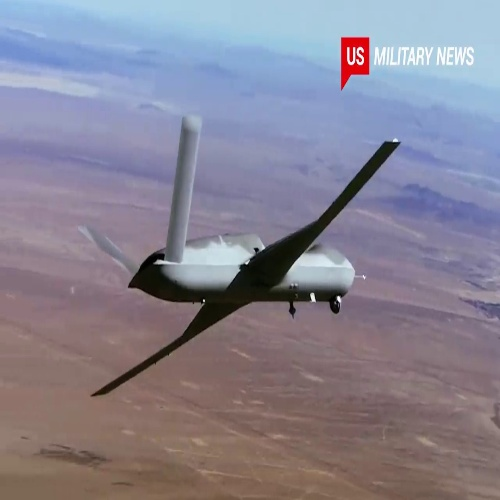uav190: (77, 110, 404, 399)
